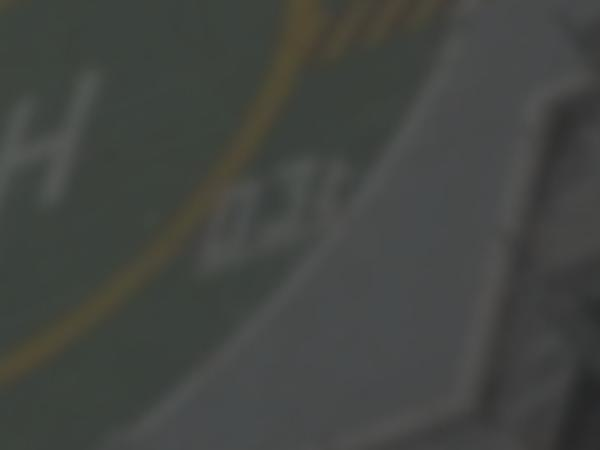Apron: (1, 1, 359, 383)
